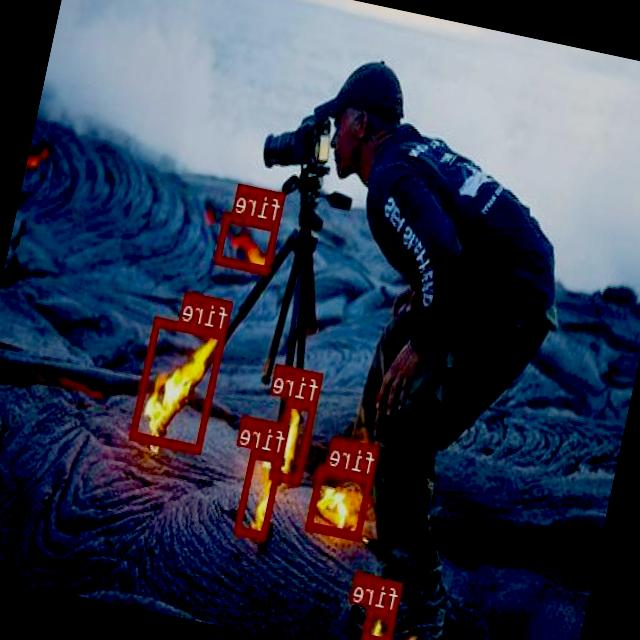fire: (131, 316, 226, 453), (308, 464, 374, 538), (234, 448, 284, 538), (216, 210, 280, 274), (272, 398, 317, 483), (363, 606, 398, 640)
